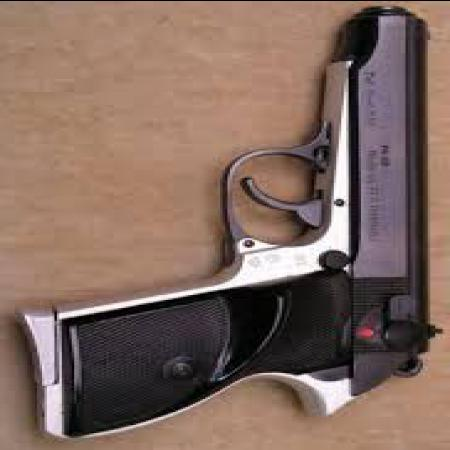Pistol: (27, 5, 443, 440)
